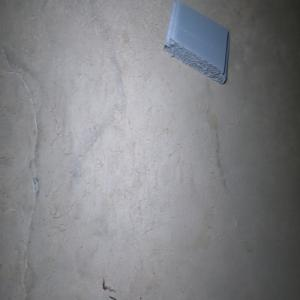PlasticPart: (162, 0, 230, 84)
